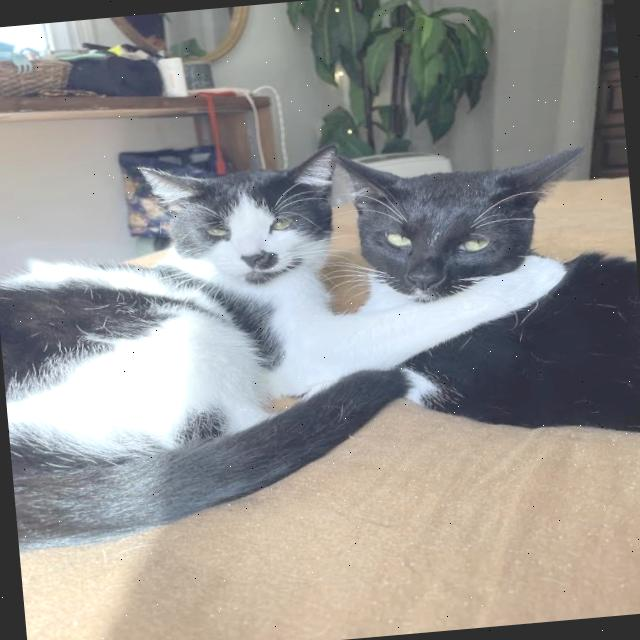domestic_short_hair_cat: (327, 128, 605, 320), (126, 130, 355, 314)
